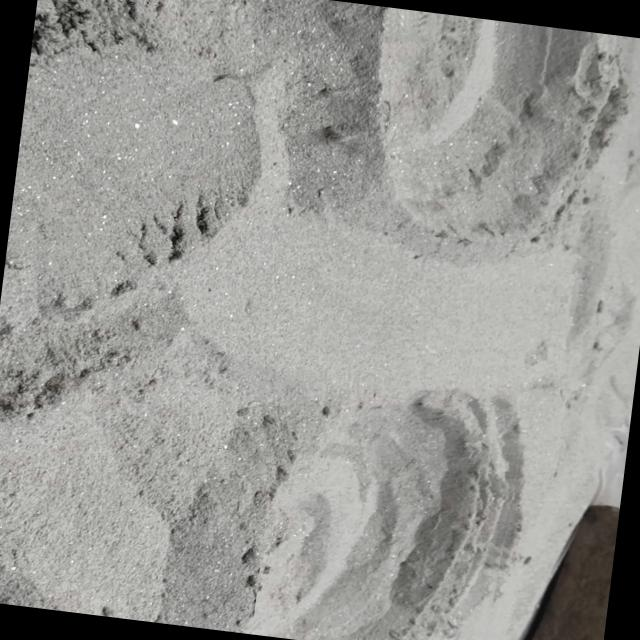C20: (251, 386, 520, 640), (379, 13, 633, 244)
